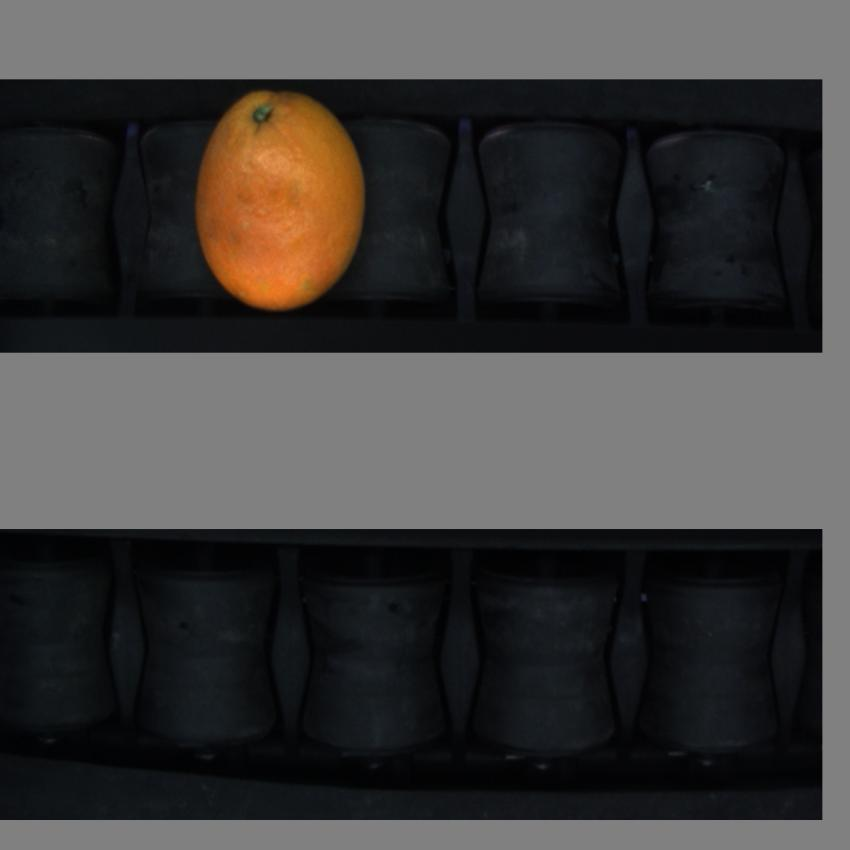Mal estado: (188, 86, 376, 310)
